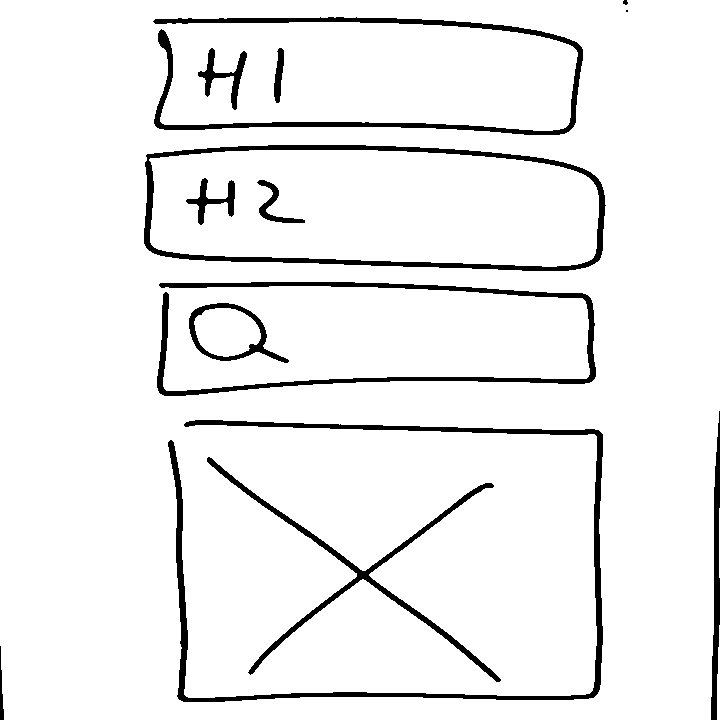heading1: (148, 13, 585, 138)
heading2: (140, 143, 608, 274)
picture: (162, 415, 608, 706)
search bar: (154, 278, 600, 401)
